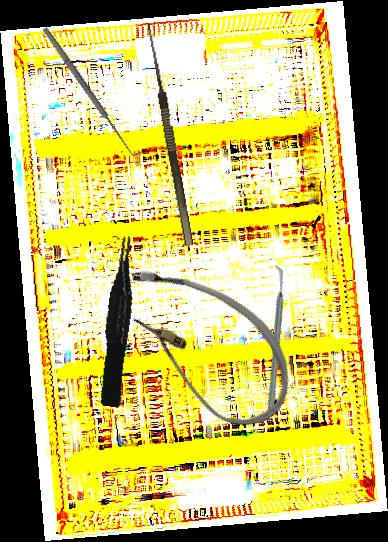Cannula: (91, 245, 317, 444)
Chopper: (211, 263, 337, 415)
Hook Surgical: (39, 22, 144, 161), (133, 21, 194, 249)
Tissue Forceps: (92, 234, 147, 409)
